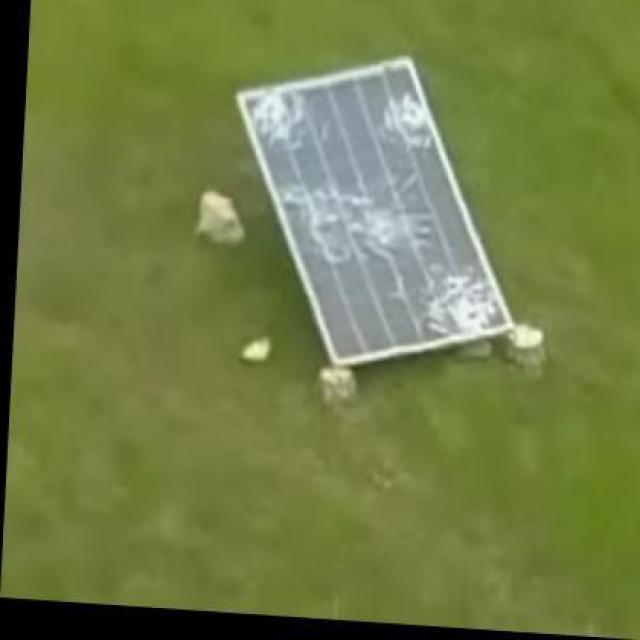cracked: (227, 53, 509, 369)
